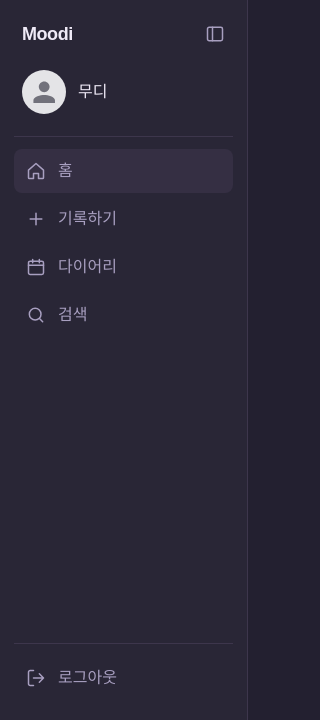
Sidebar › collapses and expands with the toggle button
Click the button named "사이드바 접기/펼치기": (215, 34) [197,16,233,52]
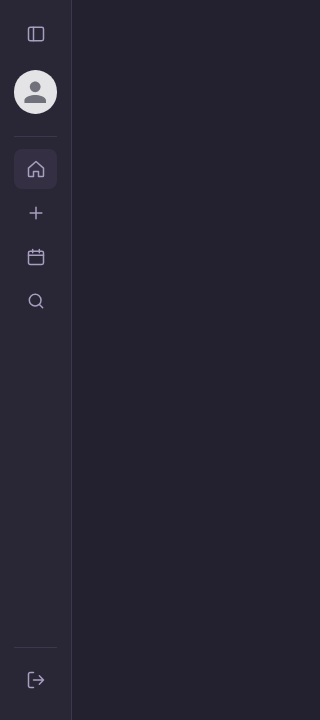
Now the button named "사이드바 접기/펼치기" is collapsed
Click the button named "사이드바 접기/펼치기": (36, 34) [18,16,54,52]
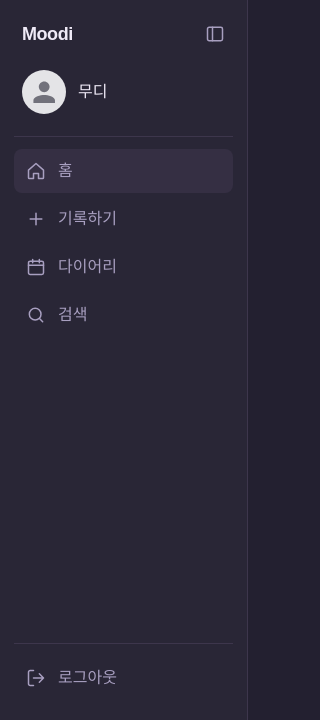
Now the button named "사이드바 접기/펼치기" is expanded, box [197,16,233,52]
